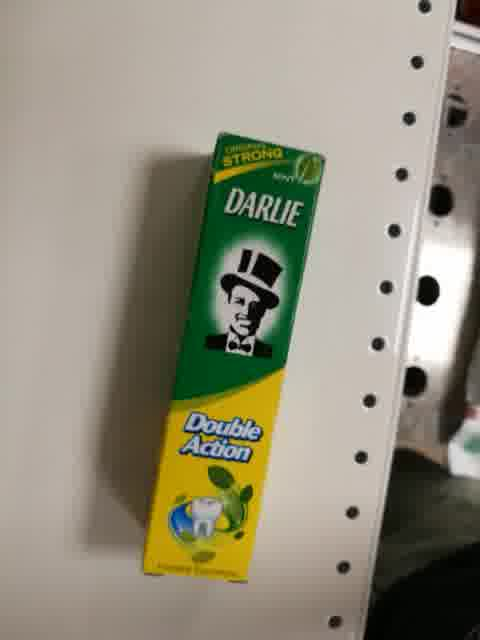toothpaste: (141, 131, 327, 588)
